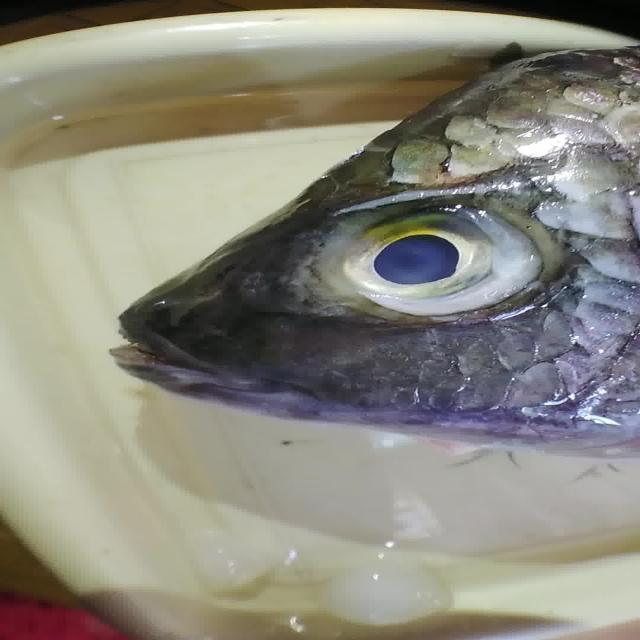Fresh: (312, 194, 585, 349)
